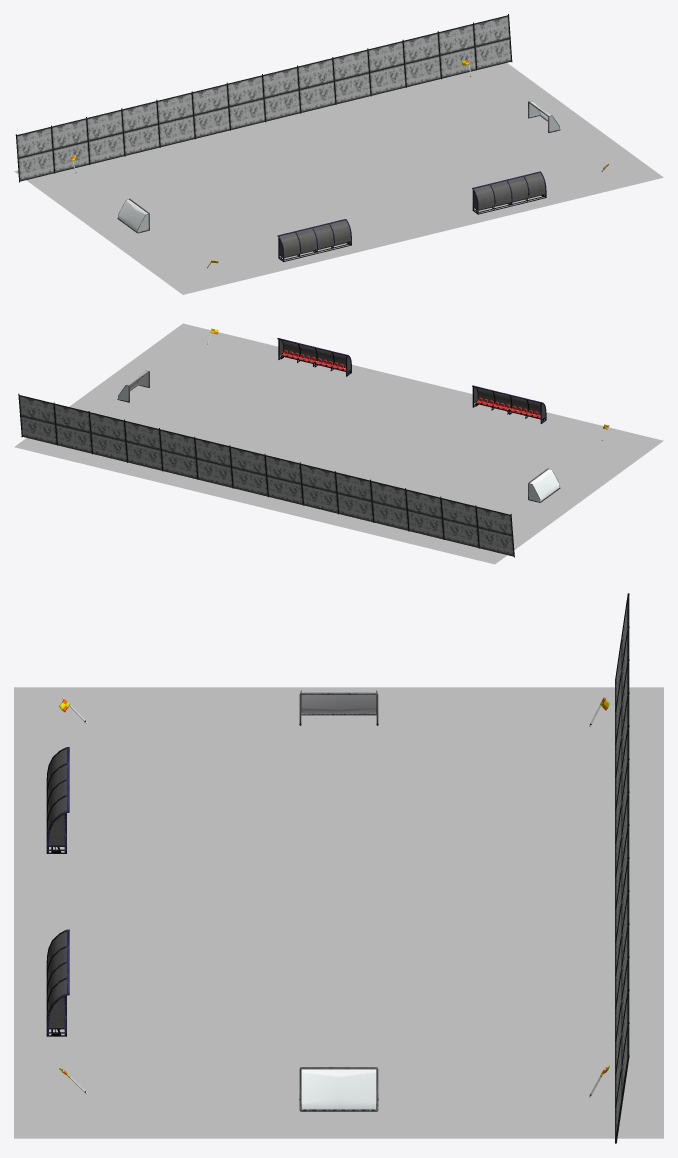
Rendered from football_scene.fbx.
The picture shows the model from 3 angles, top to bottom: view 1: azimuth 30°, elevation 25°; view 2: azimuth 150°, elevation 25°; view 3: azimuth 270°, elevation 25°; orthographic projection. The views are drawn at different scales.
Visible parts, largest first — view 1: f_field, f_fench, f_bench, f_goal; view 2: f_field, f_fench, f_bench, f_goal; view 3: f_field, f_fench, f_goal, f_bench.
Part boxes in pixels (x1,y1,x2,y2): f_field: [14, 63, 663, 294]; f_fench: [15, 14, 512, 182]; f_bench: [277, 171, 546, 261]; f_goal: [117, 101, 560, 233]; f_field: [14, 323, 663, 564]; f_fench: [18, 393, 514, 557]; f_bench: [277, 338, 546, 423]; f_goal: [117, 370, 560, 502]; f_field: [14, 687, 663, 1138]; f_fench: [615, 593, 629, 1143]; f_goal: [299, 690, 378, 1111]; f_bench: [46, 747, 69, 1036].
Bounding box in the file's own units: 7292 × 646 × 4329.
